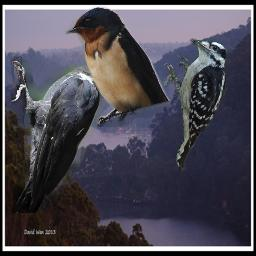Swallow: (65, 6, 171, 127)
Woodpecker: (11, 29, 137, 213), (163, 37, 234, 171)
